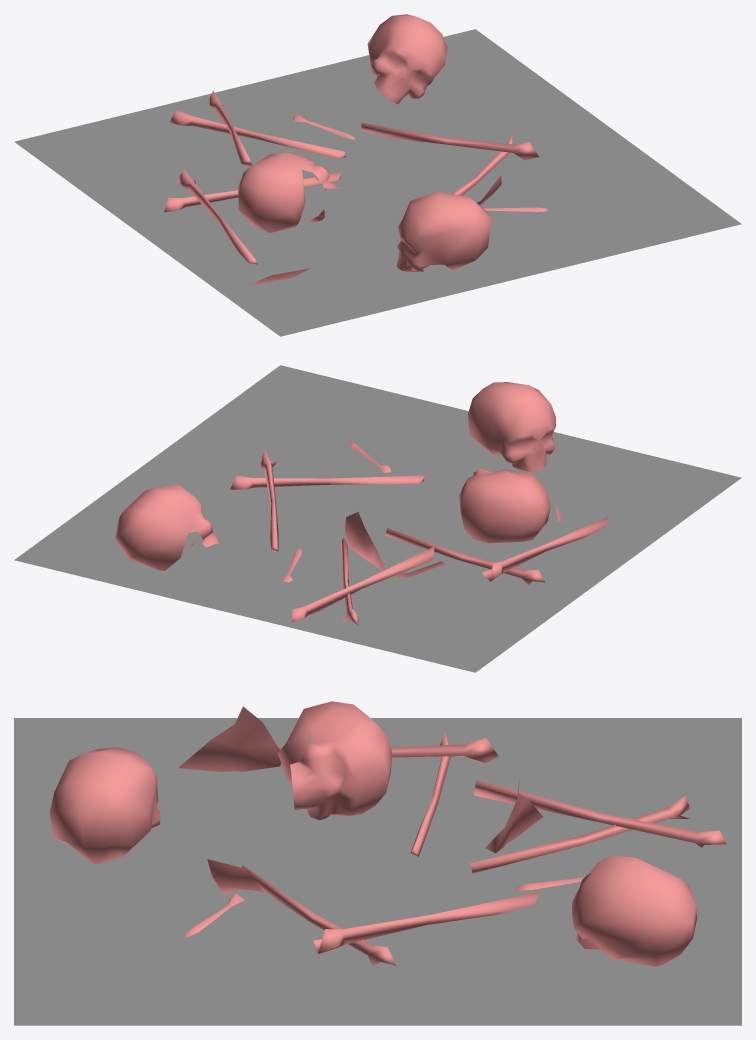
Rendered from field_deco_S__skeleton06.gltf.
The picture shows the model from 3 angles, top to bottom: view 1: azimuth 30°, elevation 25°; view 2: azimuth 150°, elevation 25°; view 3: azimuth 270°, elevation 25°; orthographic projection. The views are drawn at different scales.
Parts seen in each view (by area): view 1: skeleton06; view 2: skeleton06; view 3: skeleton06.
Part boxes in pixels (x1,y1,x2,y2): skeleton06: (14, 14, 741, 336); skeleton06: (14, 365, 741, 672); skeleton06: (14, 701, 741, 1025).
Size of the model in its own units: 0.3 by 0.0469 by 0.3.
